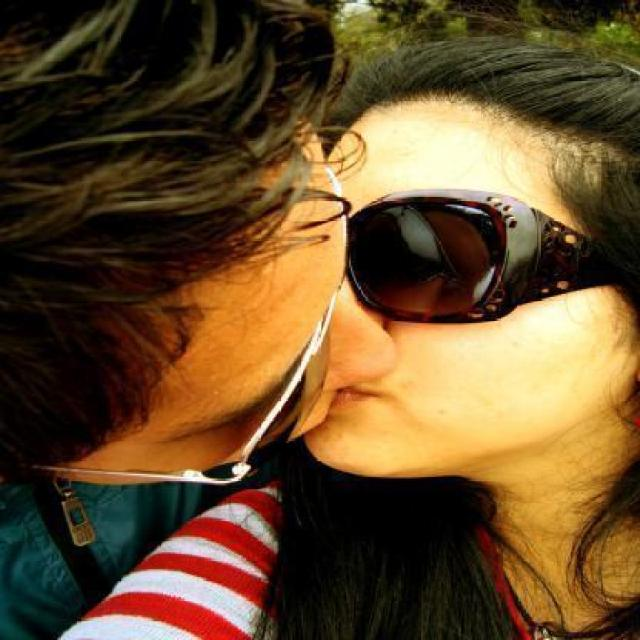glasses: (306, 190, 636, 322)
